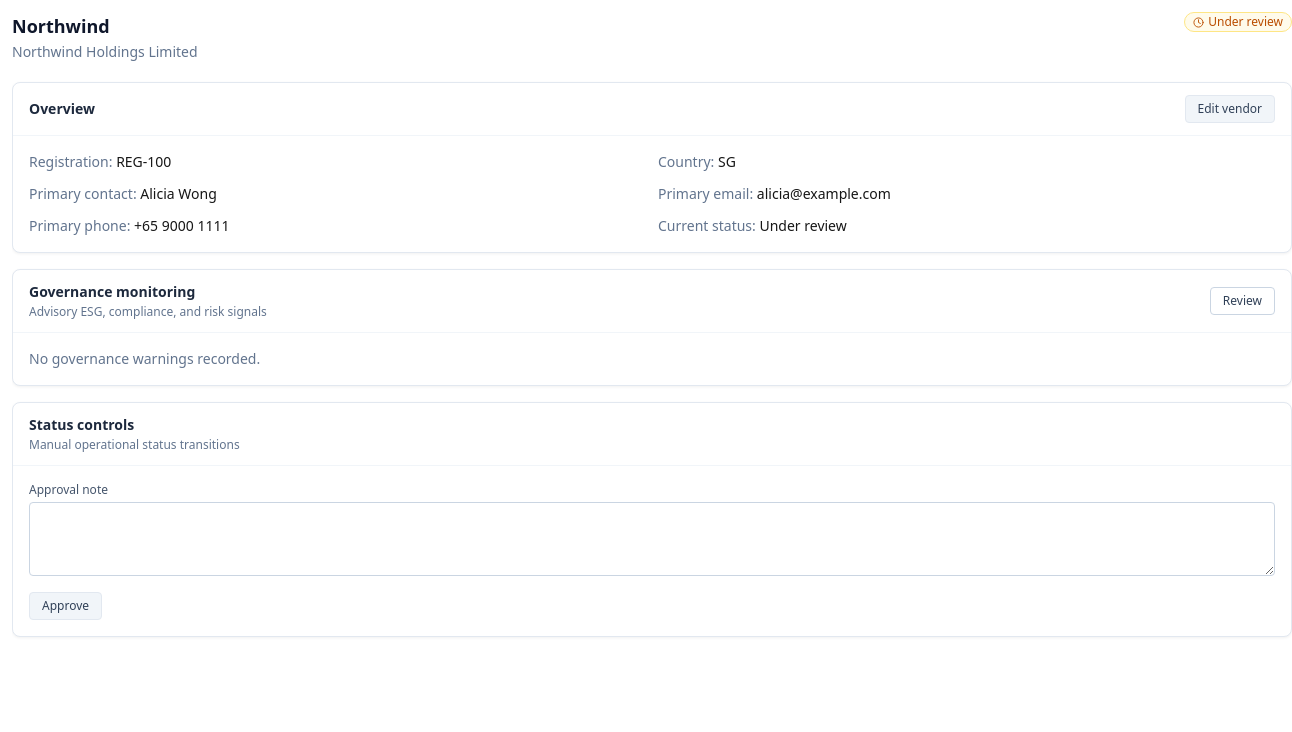
VendorDetailPage › requires an approval note before approving a vendor
Step 1. Click the button "Approve" → (66, 606), box x1=29 y1=592 x2=102 y2=620
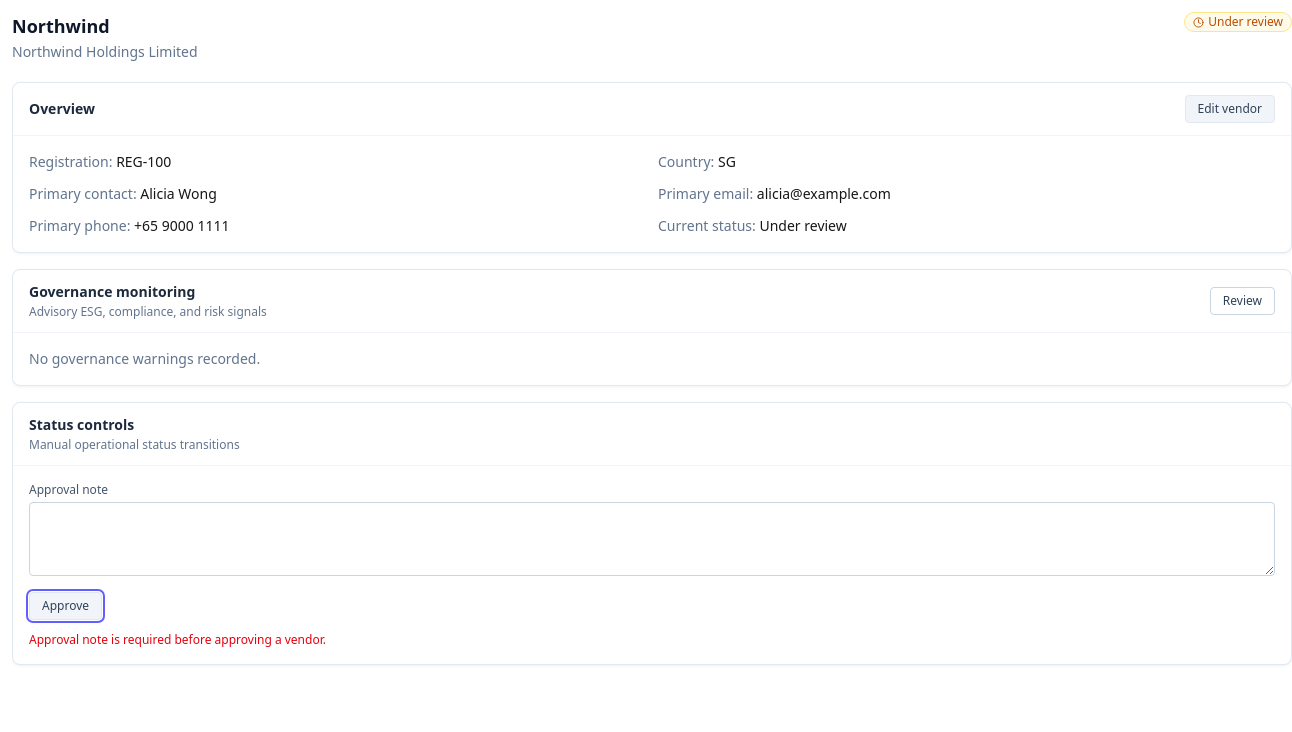
Expected: the text "Approval note is required before approving a vendor." is shown, x1=29 y1=631 x2=326 y2=648
